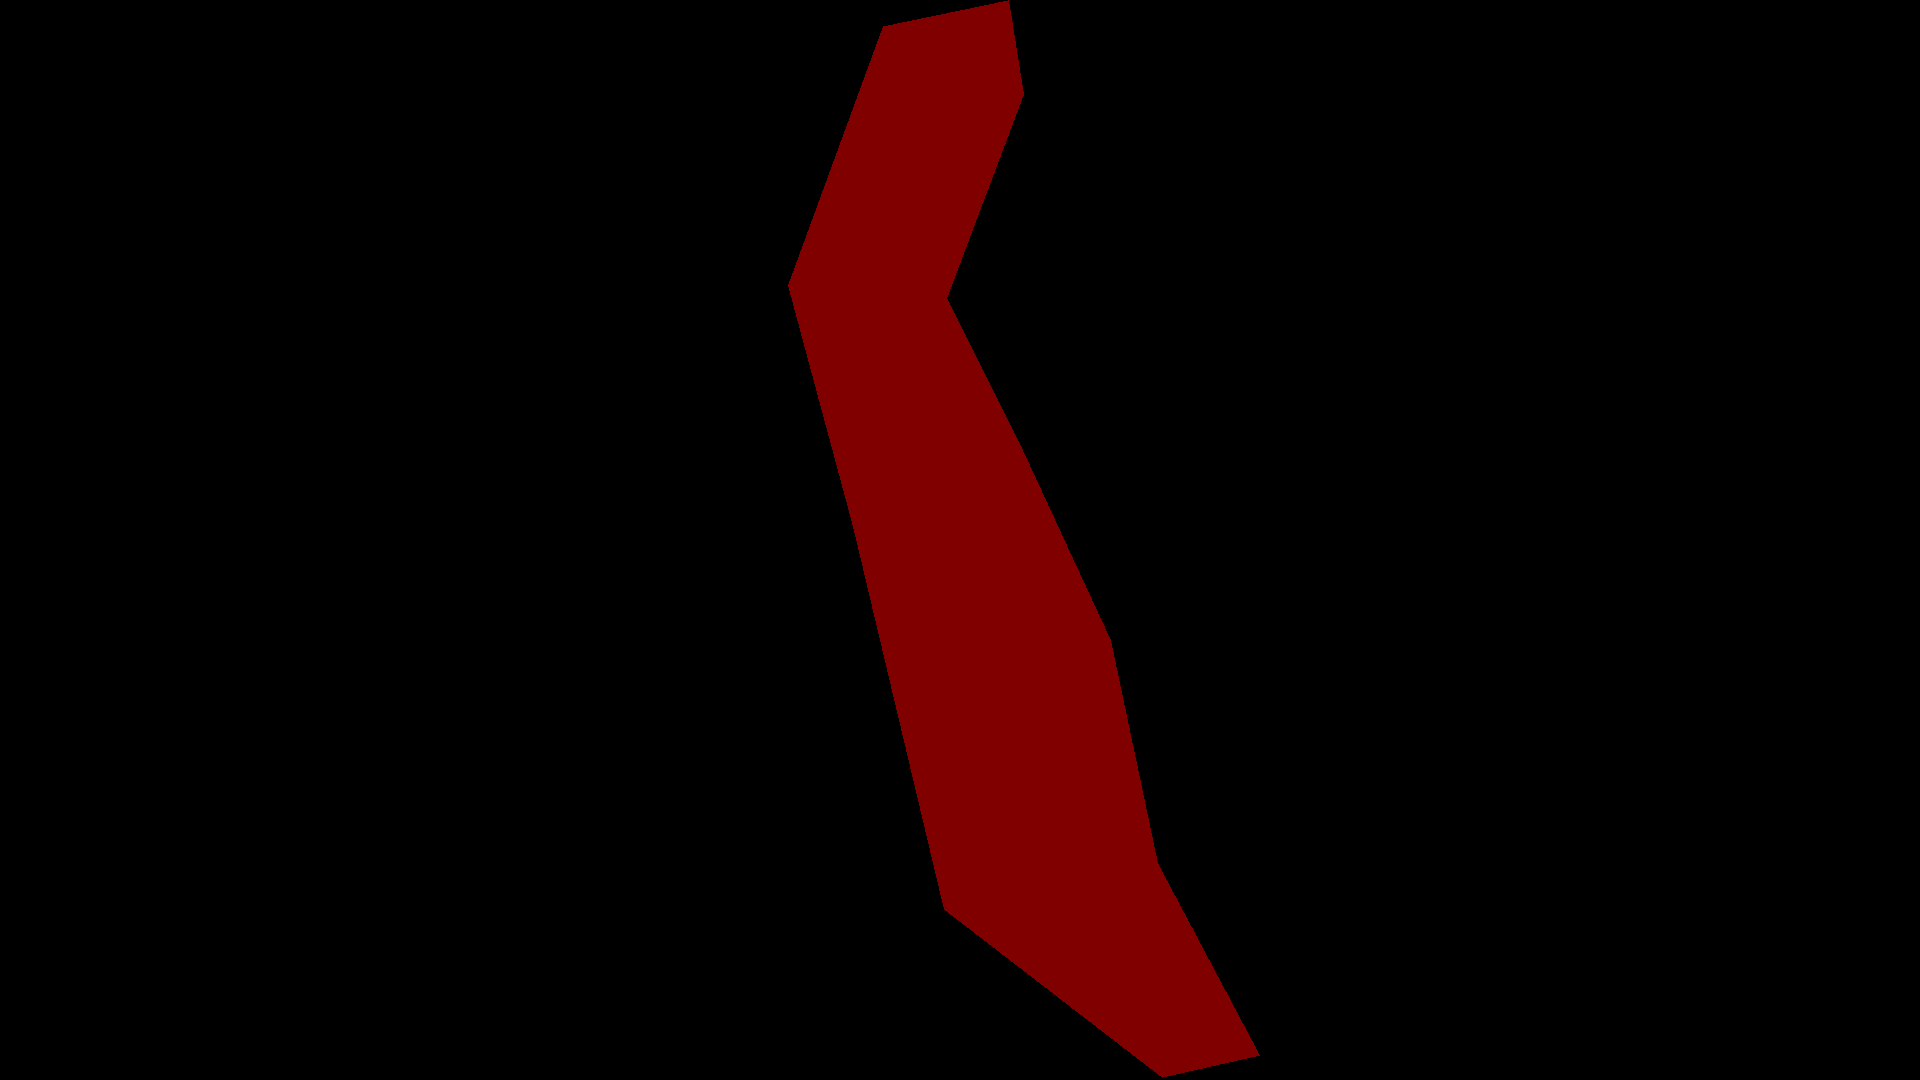fire: (789, 0, 1259, 1077)
